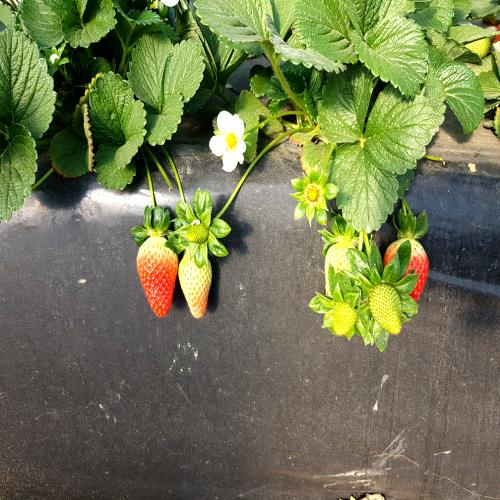partially-ripe: (138, 231, 180, 319), (180, 248, 216, 328)
